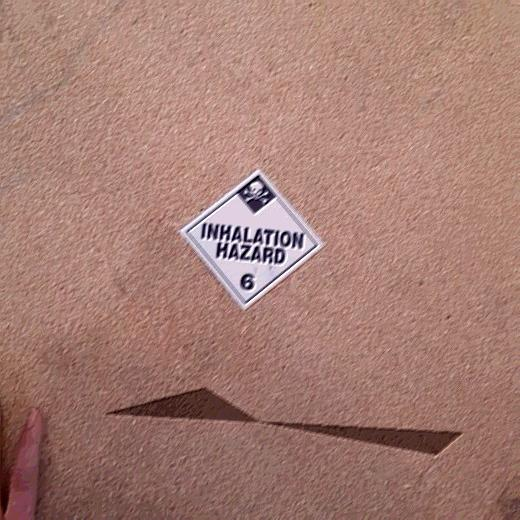poison: (171, 169, 328, 307)
